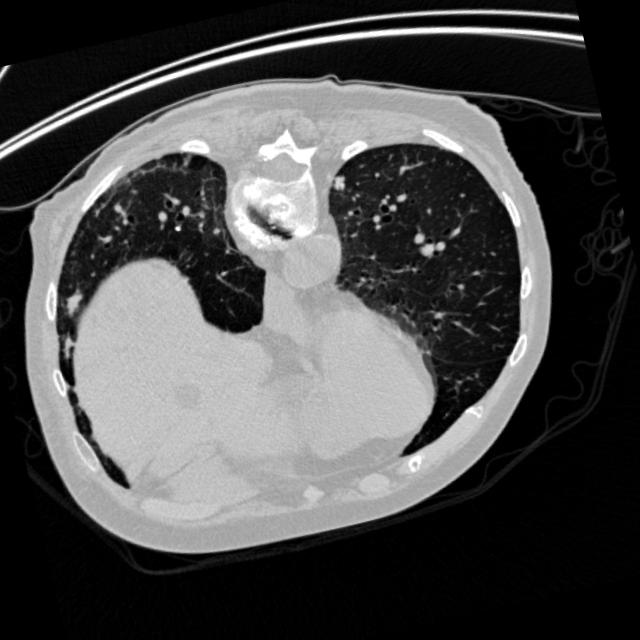nodule: (319, 164, 355, 200)
